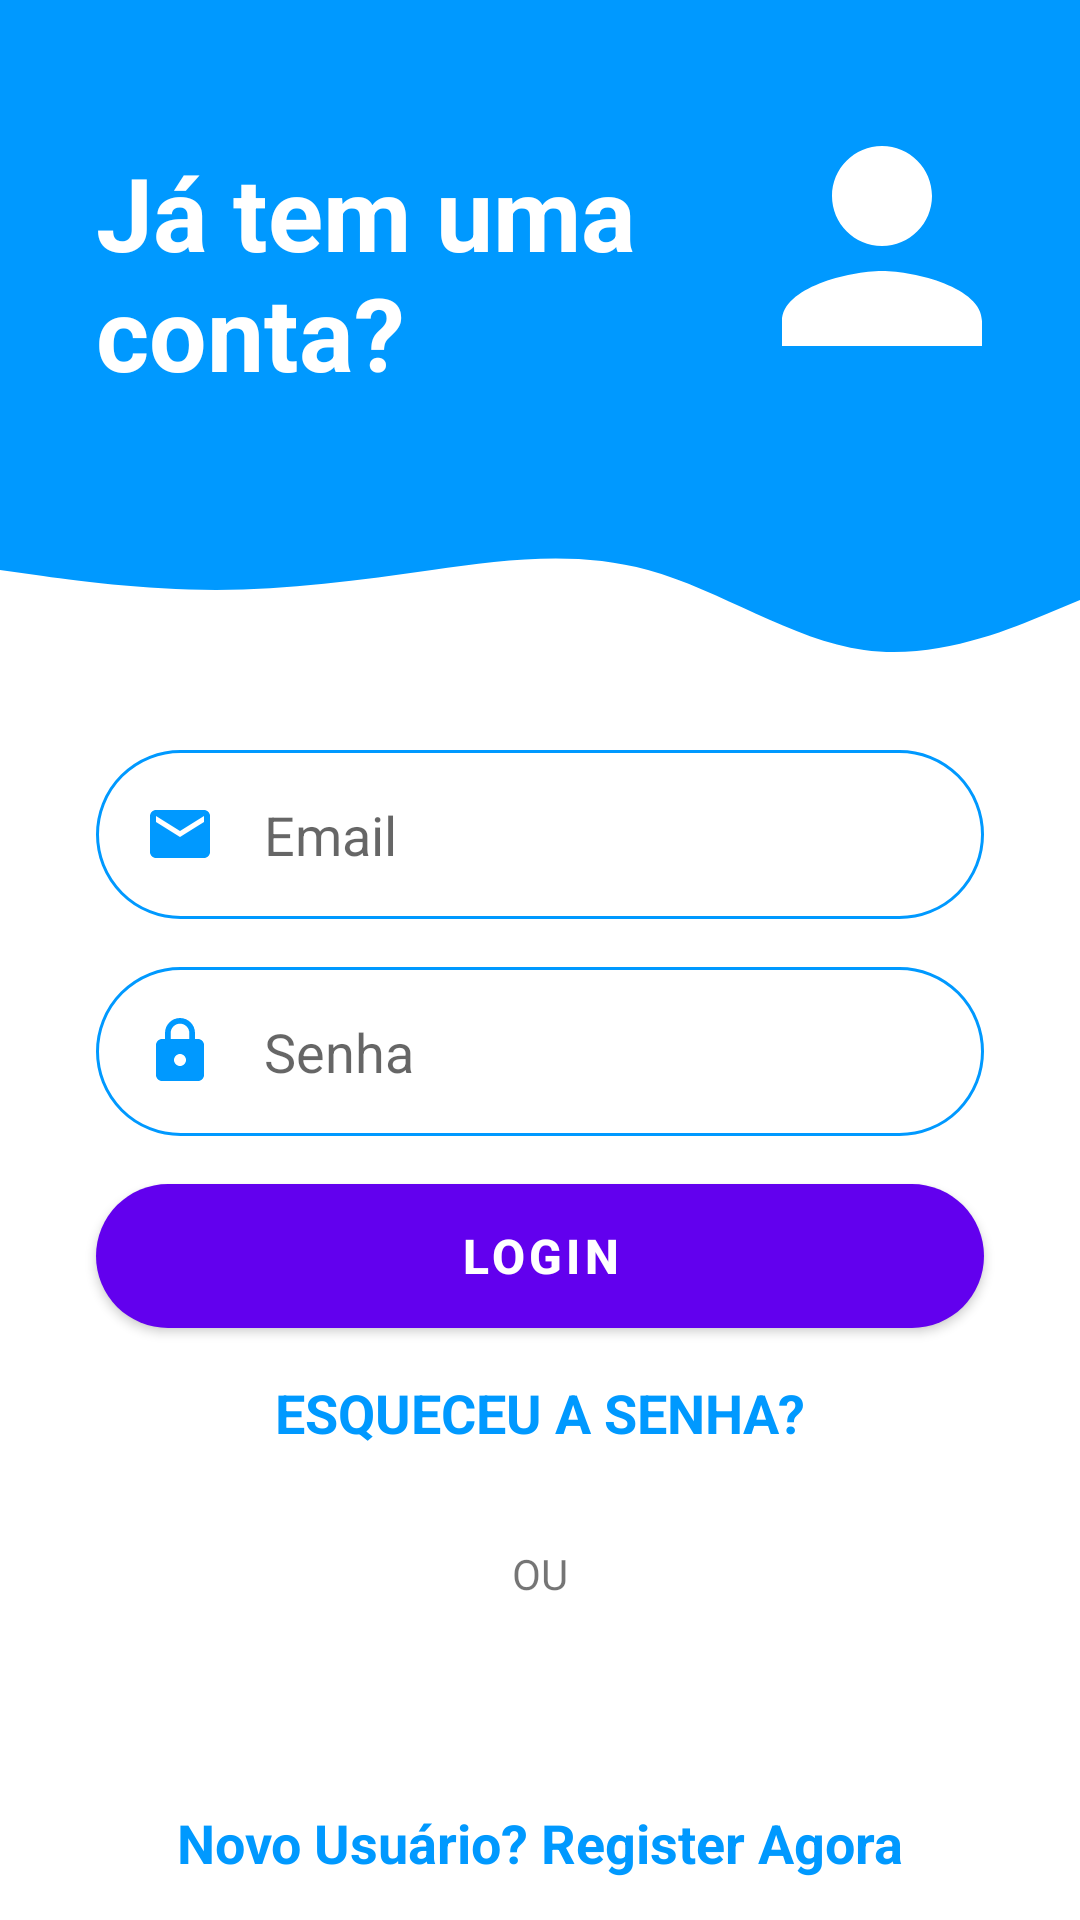

Where icons sit on this 1080 x 1920 app screen, as rect(x1, y1, x2, y2):
person: rect(782, 146, 982, 346)
